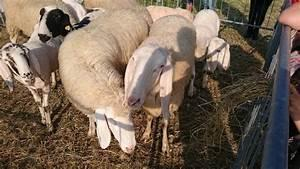cow: (124, 14, 205, 154)
